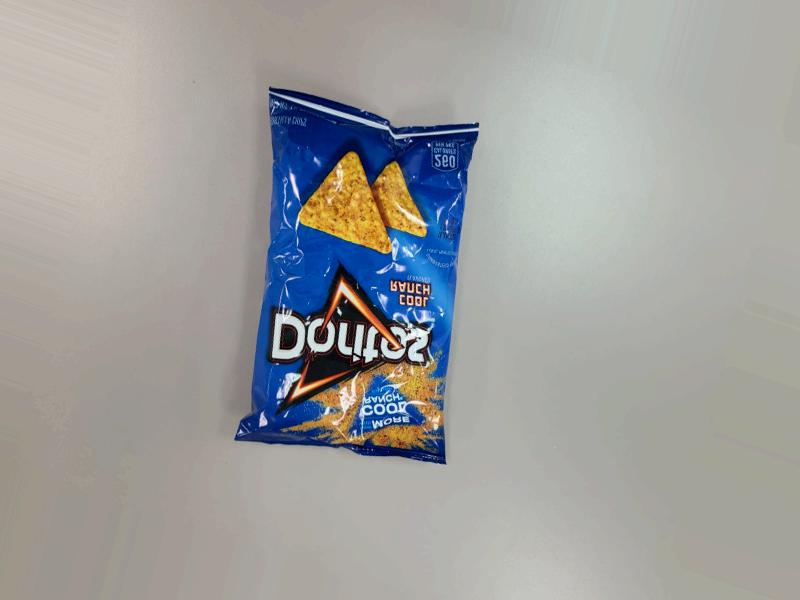doritos: (242, 119, 470, 436)
